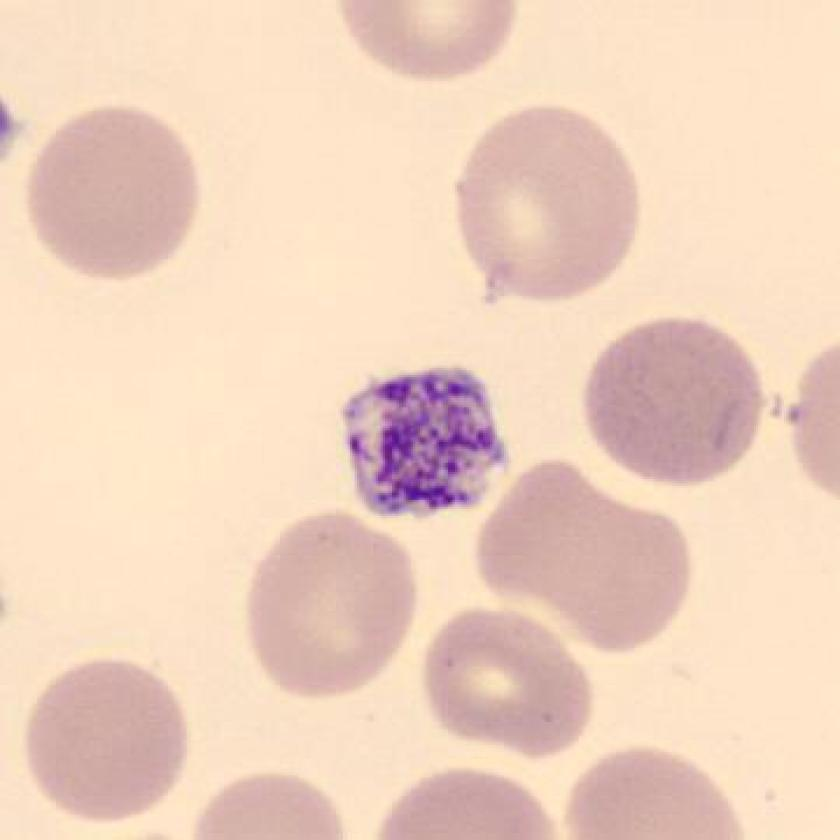platelets: (340, 360, 515, 524)
